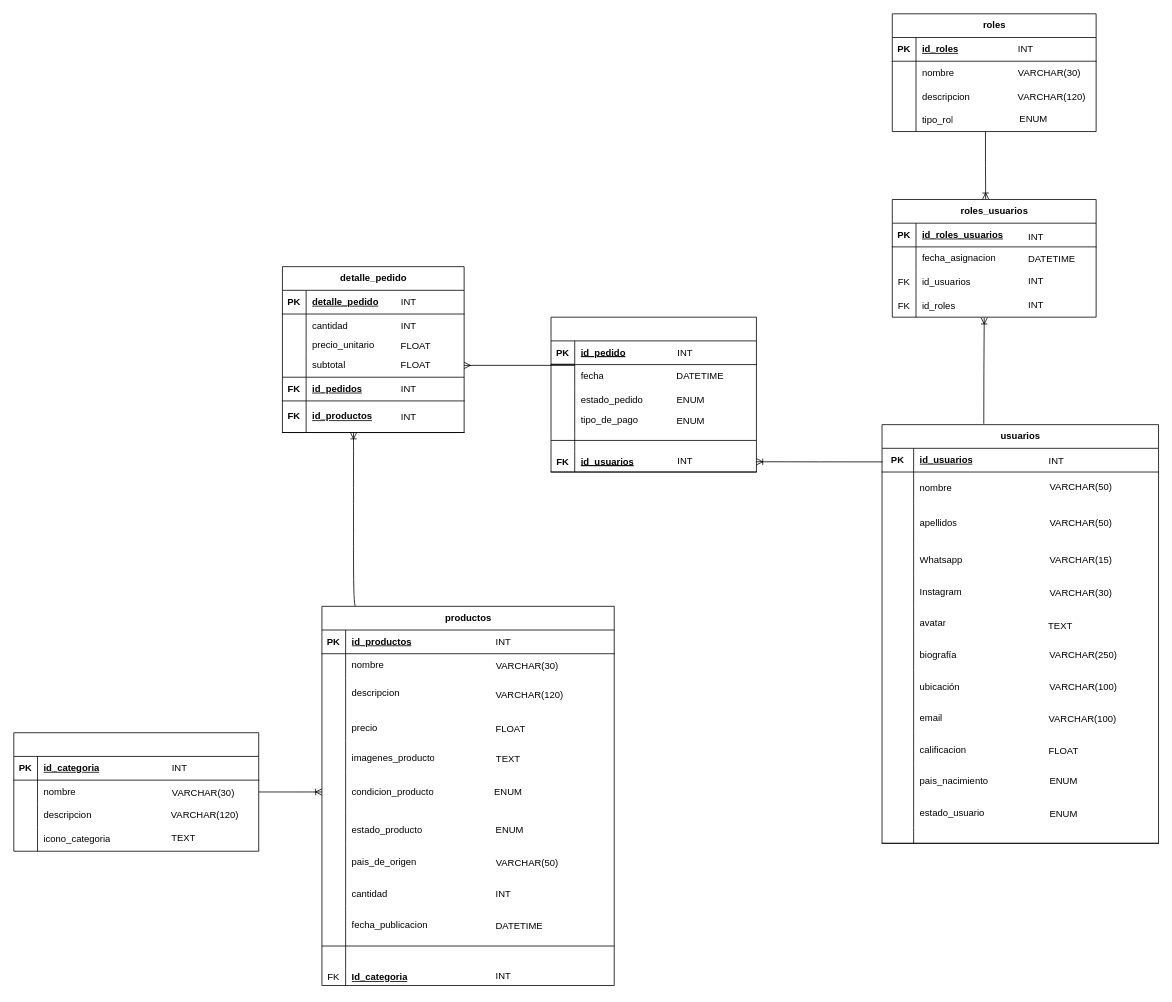
This 1172x1002 diagram has some shape labels left out. Each missing label, with the box of its shape:
categorias: (13, 732, 259, 851)
pedidos: (550, 316, 756, 472)
